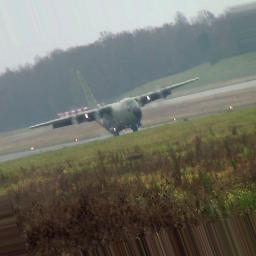Airplane: (27, 69, 200, 140)
